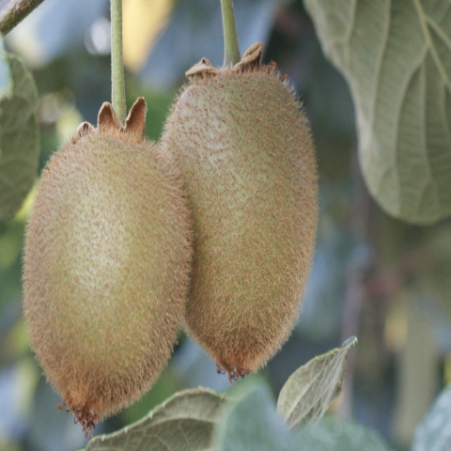kiwi: (148, 53, 335, 376), (23, 90, 194, 431)
